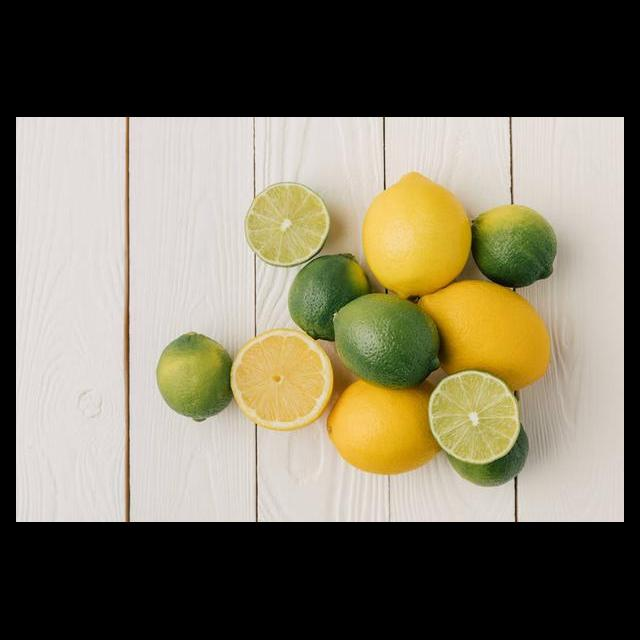lime: (325, 287, 450, 397), (151, 326, 247, 427), (462, 203, 569, 292), (282, 247, 370, 351), (447, 407, 533, 493)
